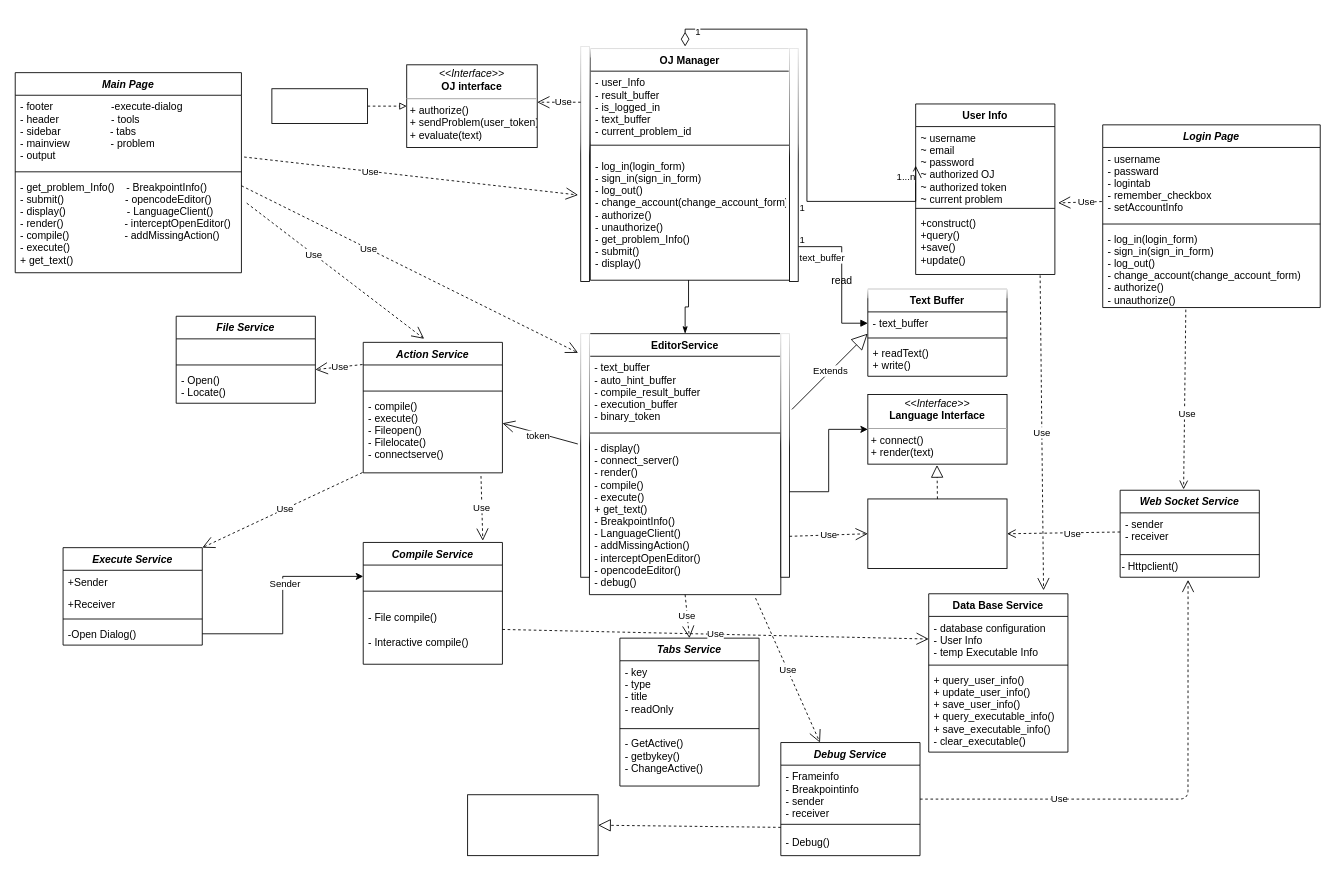
Some shapes in this 1335 by 871 pixel diagram are drawn without their labels. Each missing label, with the centre of its shape:
<<Interface>> Debug Interface + debug(text): the point at 532,825
Language Service: the point at 937,533
OJ Adaptor: the point at 319,106
